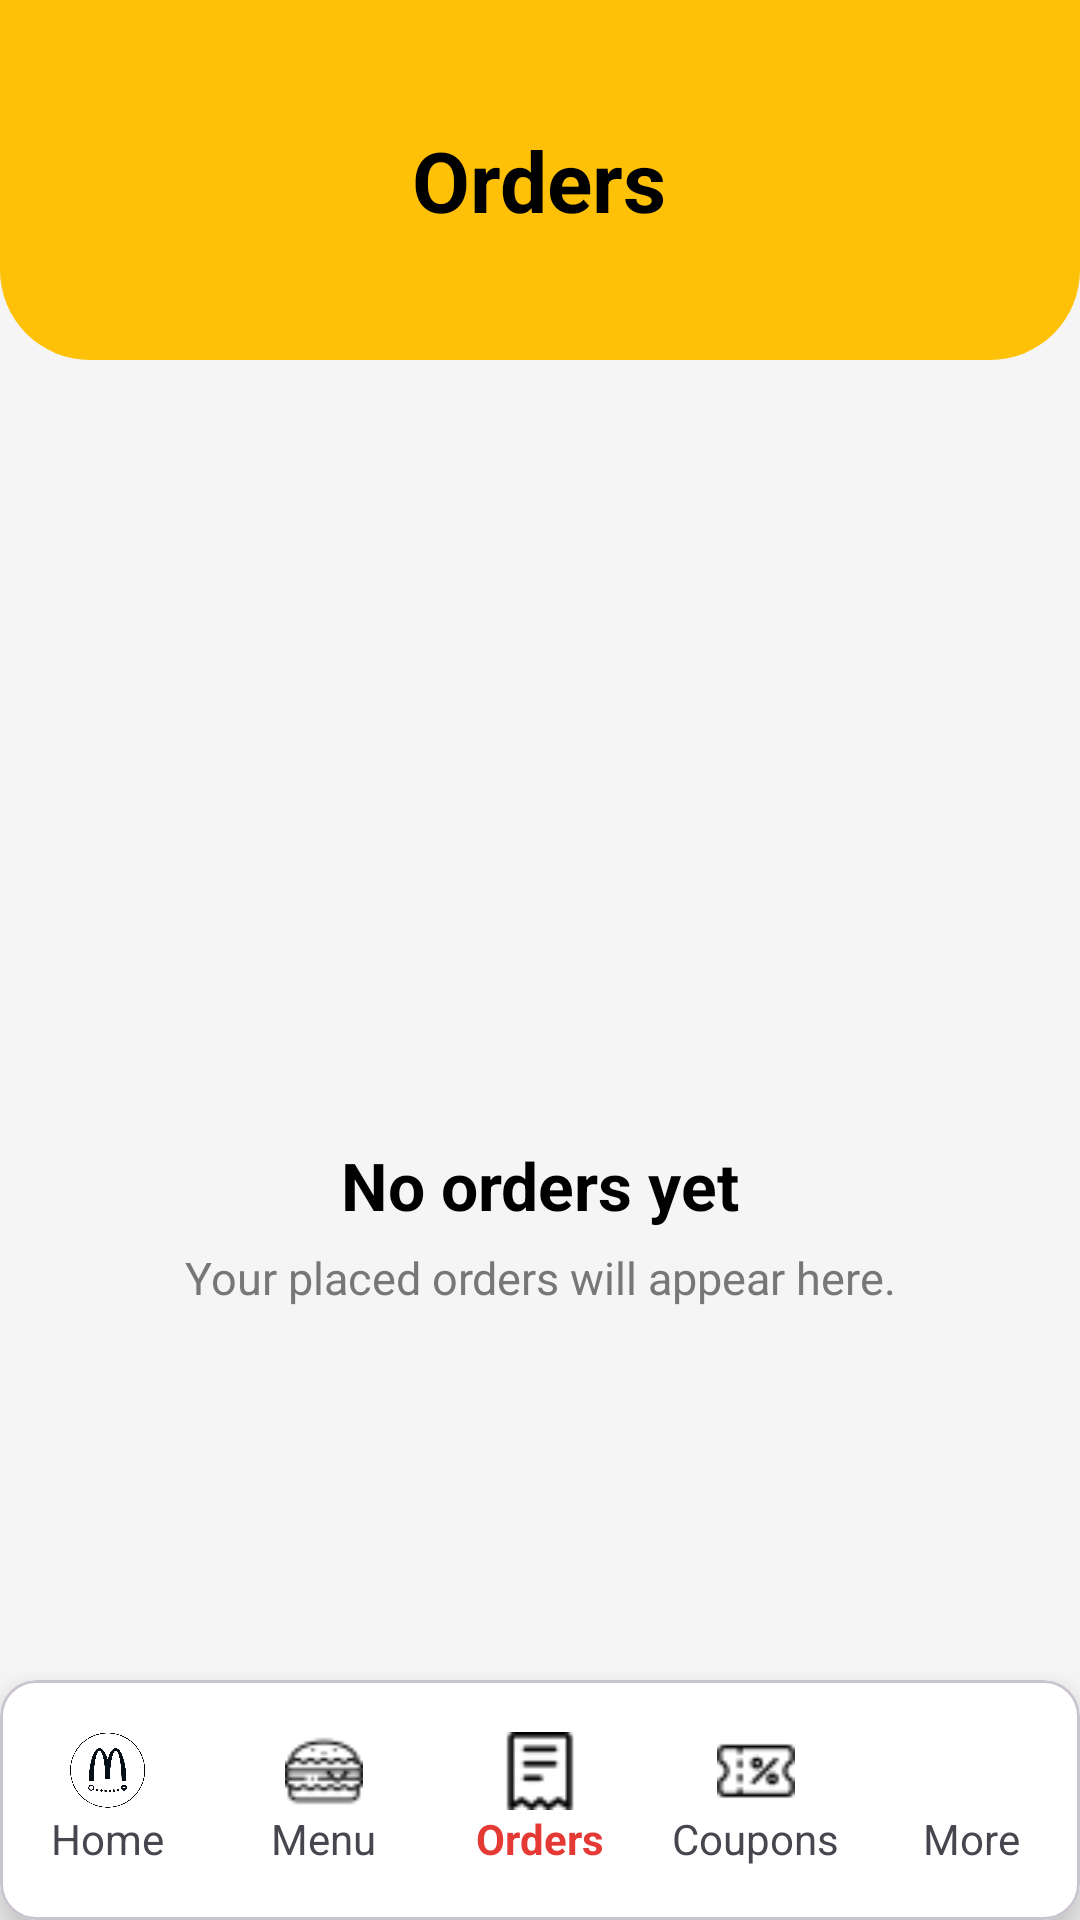

Point at icon controls on the screen. Image size 1080px×1920px, points as [x,y].
burger: [324,1771]
